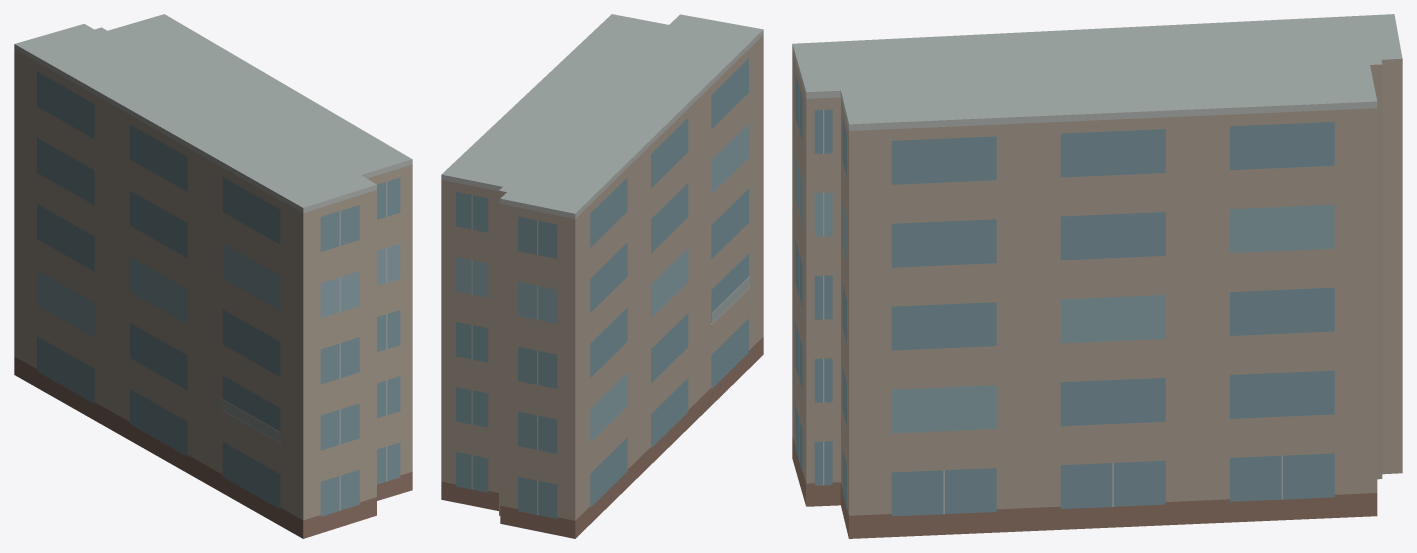
The model's file is survey-upis-32743531.glb.
3 renders of one model, left to right at view 1: azimuth 30°, elevation 25°; view 2: azimuth 150°, elevation 25°; view 3: azimuth 270°, elevation 25°, orthographic. The views are drawn at different scales.
Parts seen in each view (by area): view 1: survey-upis-32743531.tmp; view 2: survey-upis-32743531.tmp; view 3: survey-upis-32743531.tmp.
Part boxes in pixels (left/top/right/bottom): survey-upis-32743531.tmp: left=14, top=14, right=412, bottom=538; survey-upis-32743531.tmp: left=441, top=14, right=763, bottom=538; survey-upis-32743531.tmp: left=792, top=14, right=1402, bottom=538.
Size of the model in its own units: 8.72 by 15.25 by 20.35.
